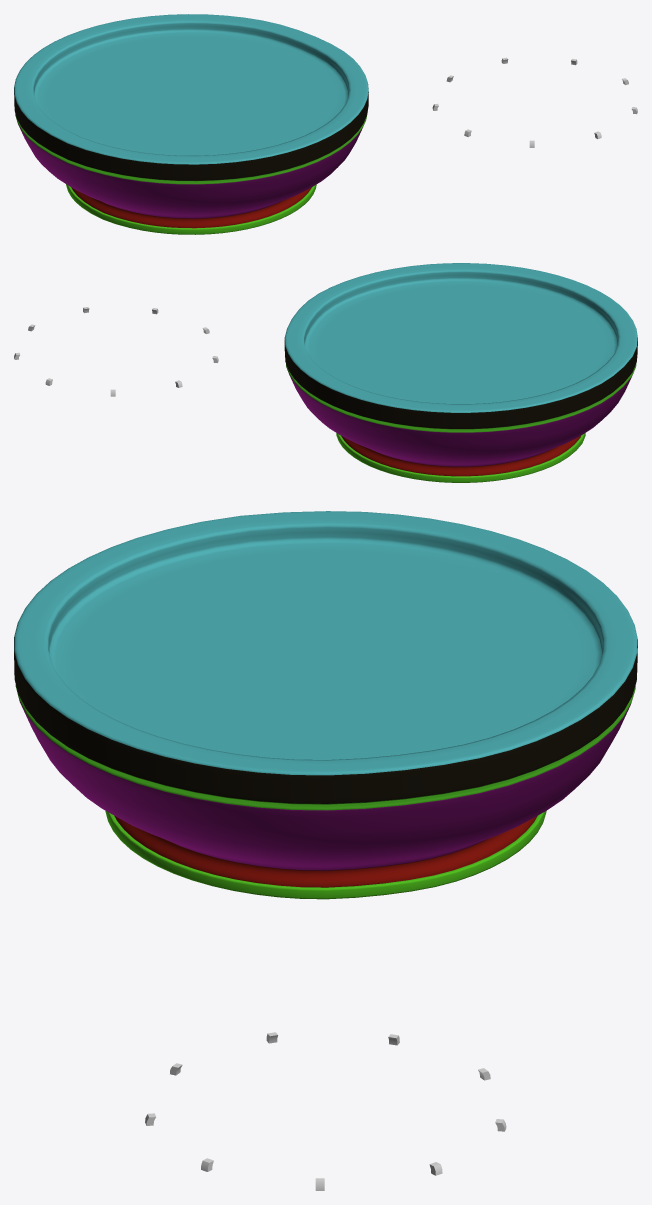
Rendered from KF_Flower_Pot_002_HighPoly.fbx.
3 renders of one model, top to bottom at view 1: azimuth 30°, elevation 25°; view 2: azimuth 150°, elevation 25°; view 3: azimuth 270°, elevation 25°, orthographic. The views are drawn at different scales.
Visible parts, largest first — view 1: KF_Flower_Bed_002_HighPoly, KF_Flower_Bed_002_Legs_HighPoly; view 2: KF_Flower_Bed_002_HighPoly, KF_Flower_Bed_002_Legs_HighPoly; view 3: KF_Flower_Bed_002_HighPoly, KF_Flower_Bed_002_Legs_HighPoly.
Part boxes in pixels (<box>): KF_Flower_Bed_002_HighPoly: <box>14,14,368,234</box>; KF_Flower_Bed_002_Legs_HighPoly: <box>432,57,637,147</box>; KF_Flower_Bed_002_HighPoly: <box>284,263,637,482</box>; KF_Flower_Bed_002_Legs_HighPoly: <box>14,307,218,396</box>; KF_Flower_Bed_002_HighPoly: <box>14,511,637,899</box>; KF_Flower_Bed_002_Legs_HighPoly: <box>145,1032,506,1190</box>.
Bounding box in the file's own units: 18.47 × 9.64 × 3.
